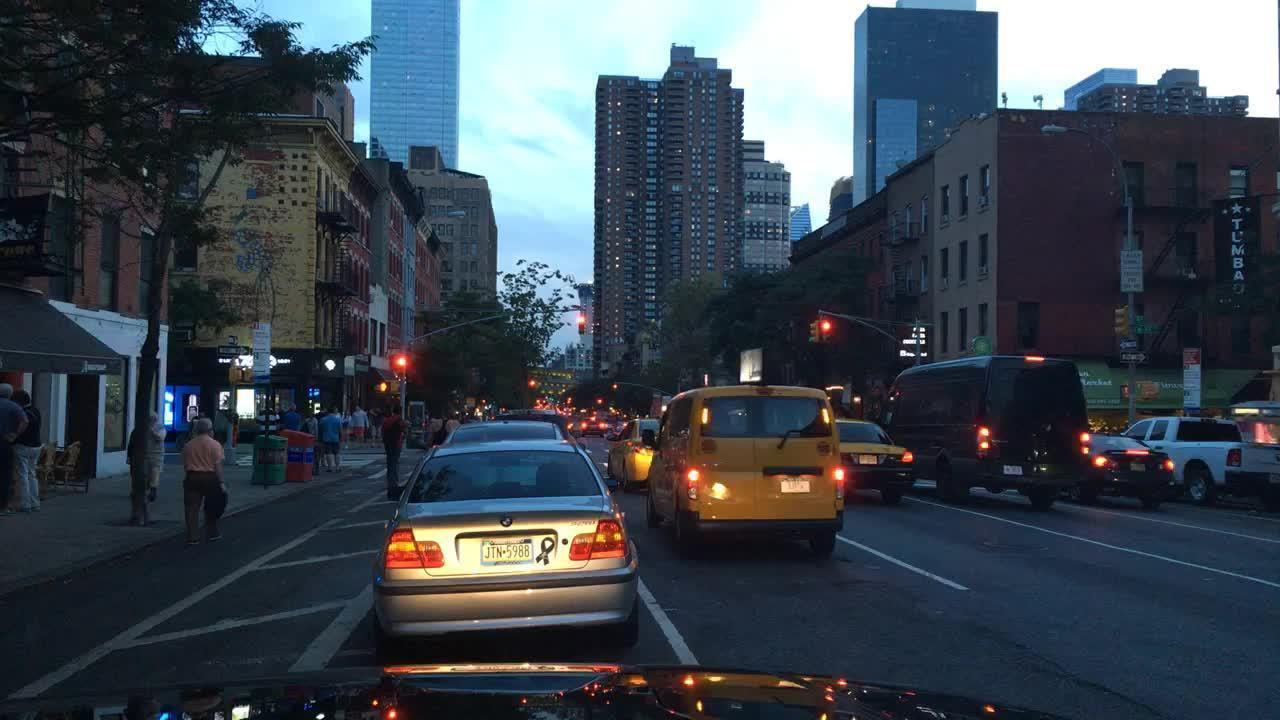bmw: (499, 515, 515, 529)
